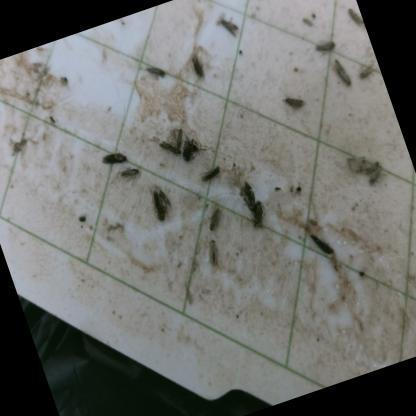prays_oleae: (349, 150, 391, 198), (150, 115, 189, 164), (304, 221, 340, 268), (142, 183, 177, 228), (214, 7, 248, 47), (94, 138, 130, 174), (281, 90, 314, 128), (342, 0, 370, 43), (115, 155, 144, 188), (329, 50, 353, 89), (201, 202, 230, 234), (352, 54, 378, 88), (180, 138, 210, 166), (197, 161, 224, 188), (312, 30, 340, 56), (203, 237, 226, 268), (142, 57, 168, 84), (0, 93, 7, 127)
